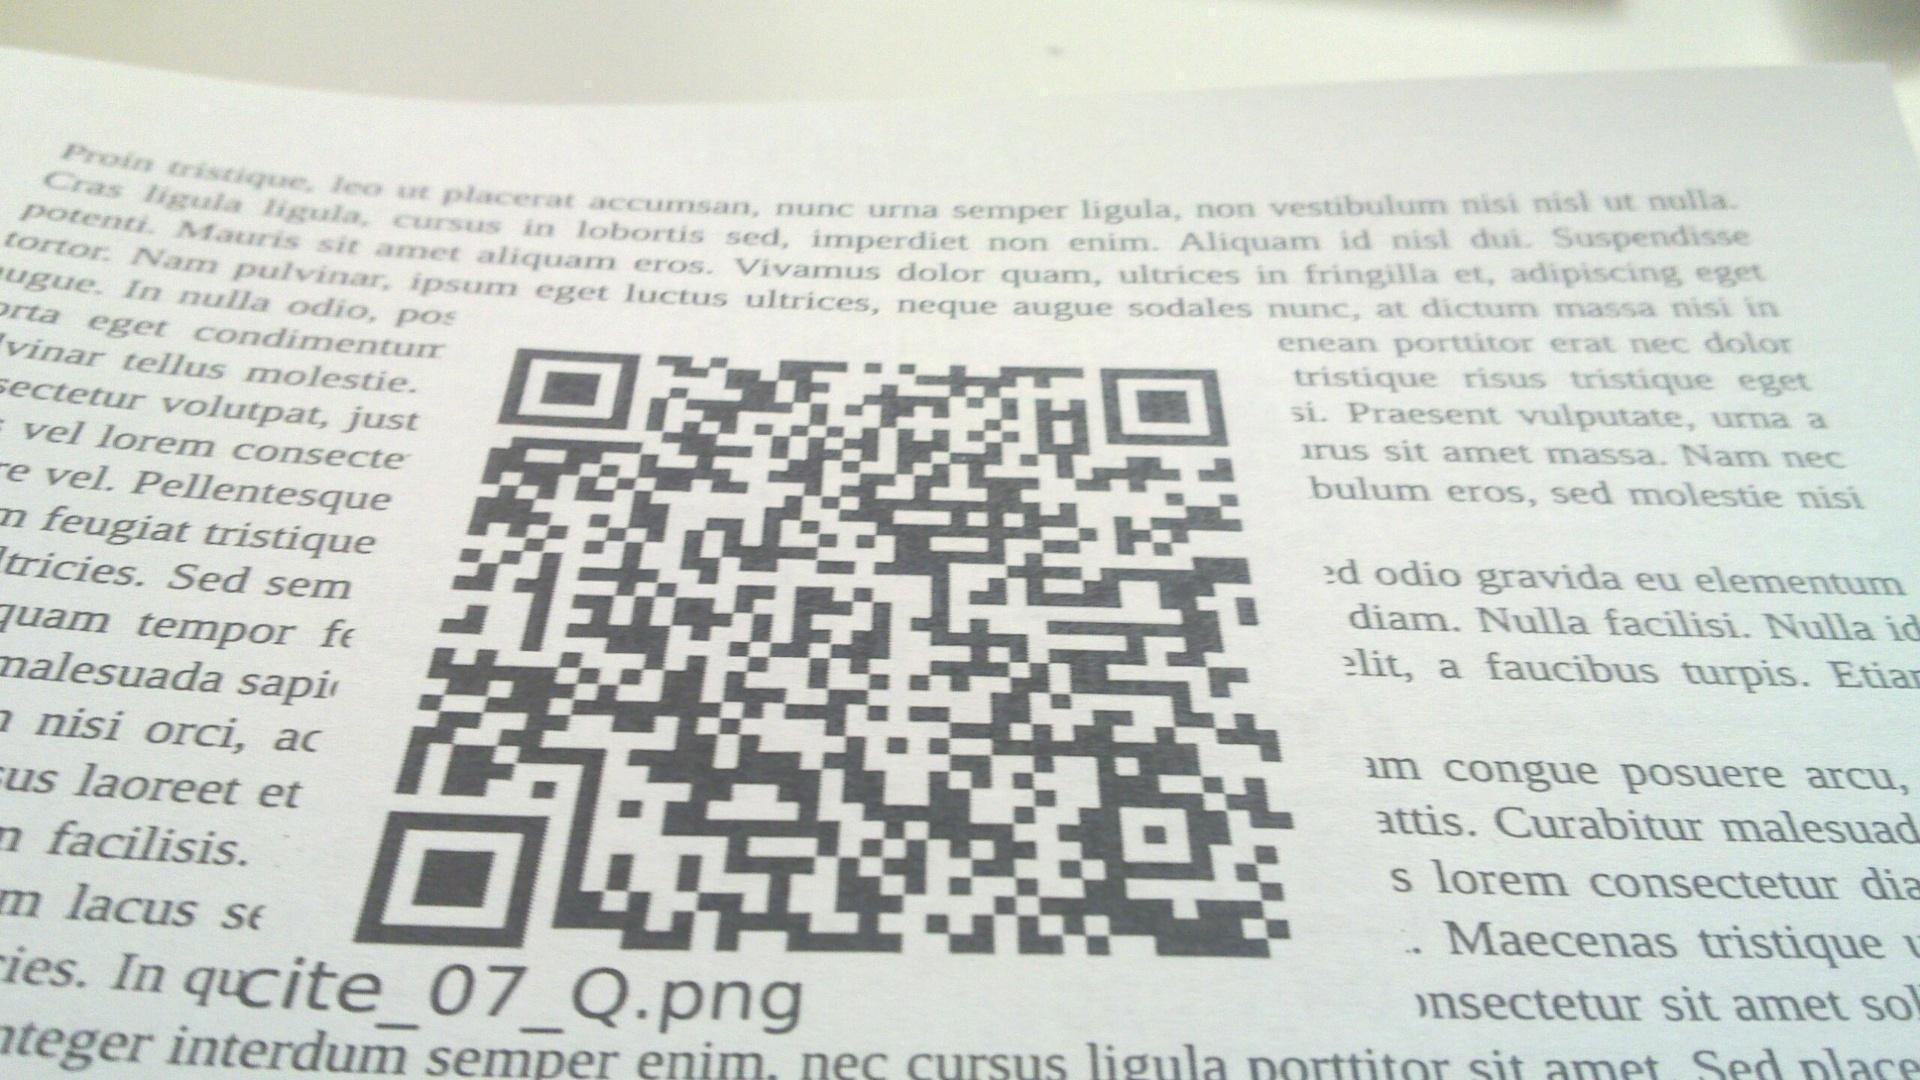qr_code: (353, 347, 1292, 960)
